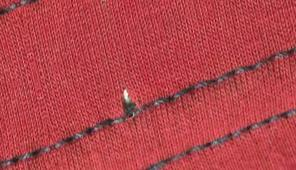hole: (115, 86, 138, 106)
